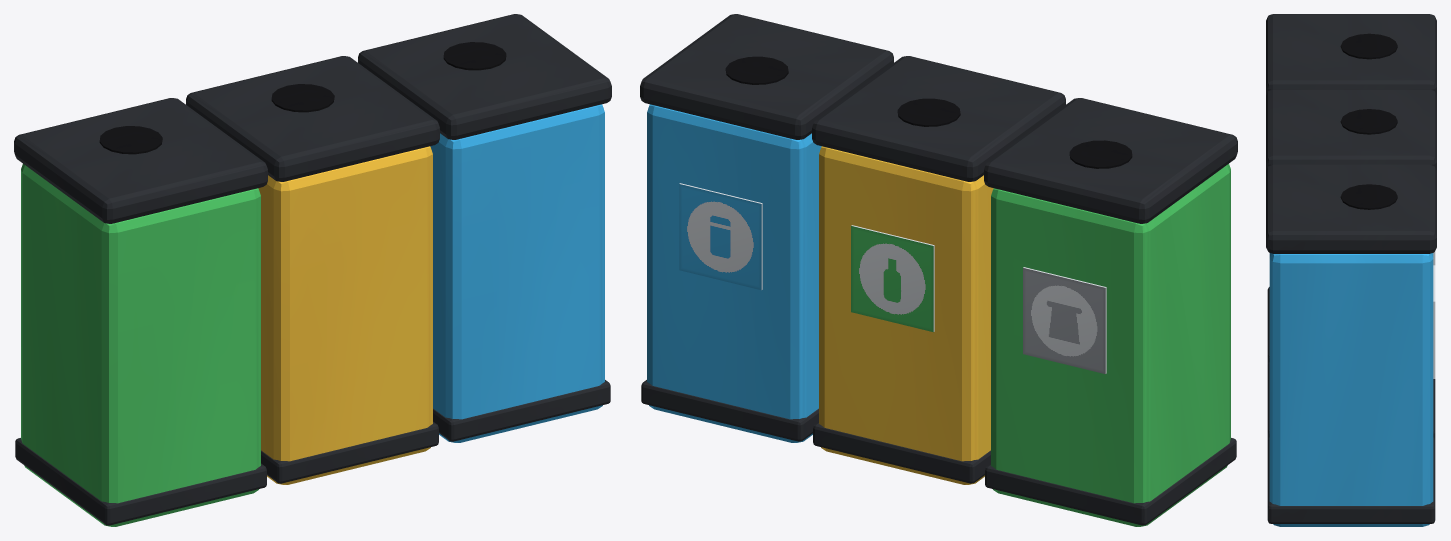
Rendered from SW_RecycleBins.glb.
3 renders of one model, left to right at view 1: azimuth 30°, elevation 25°; view 2: azimuth 150°, elevation 25°; view 3: azimuth 270°, elevation 25°, orthographic. The views are drawn at different scales.
Visible parts, largest first — view 1: Bins; view 2: Bins; view 3: Bins.
Part boxes in pixels (box(x1,y1,x2,y2)): Bins: box(14, 14, 611, 526); Bins: box(640, 14, 1237, 526); Bins: box(1266, 14, 1436, 526).
Size of the model in its own units: 1.48 by 0.93 by 0.48.
1 material, 1 textured.
